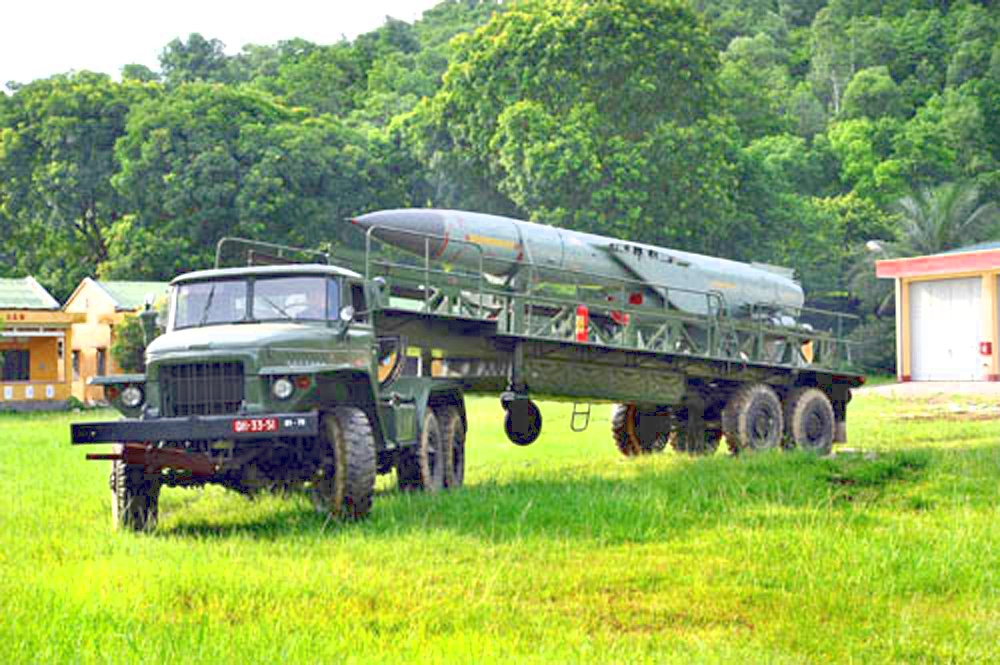plate: (230, 411, 281, 433)
